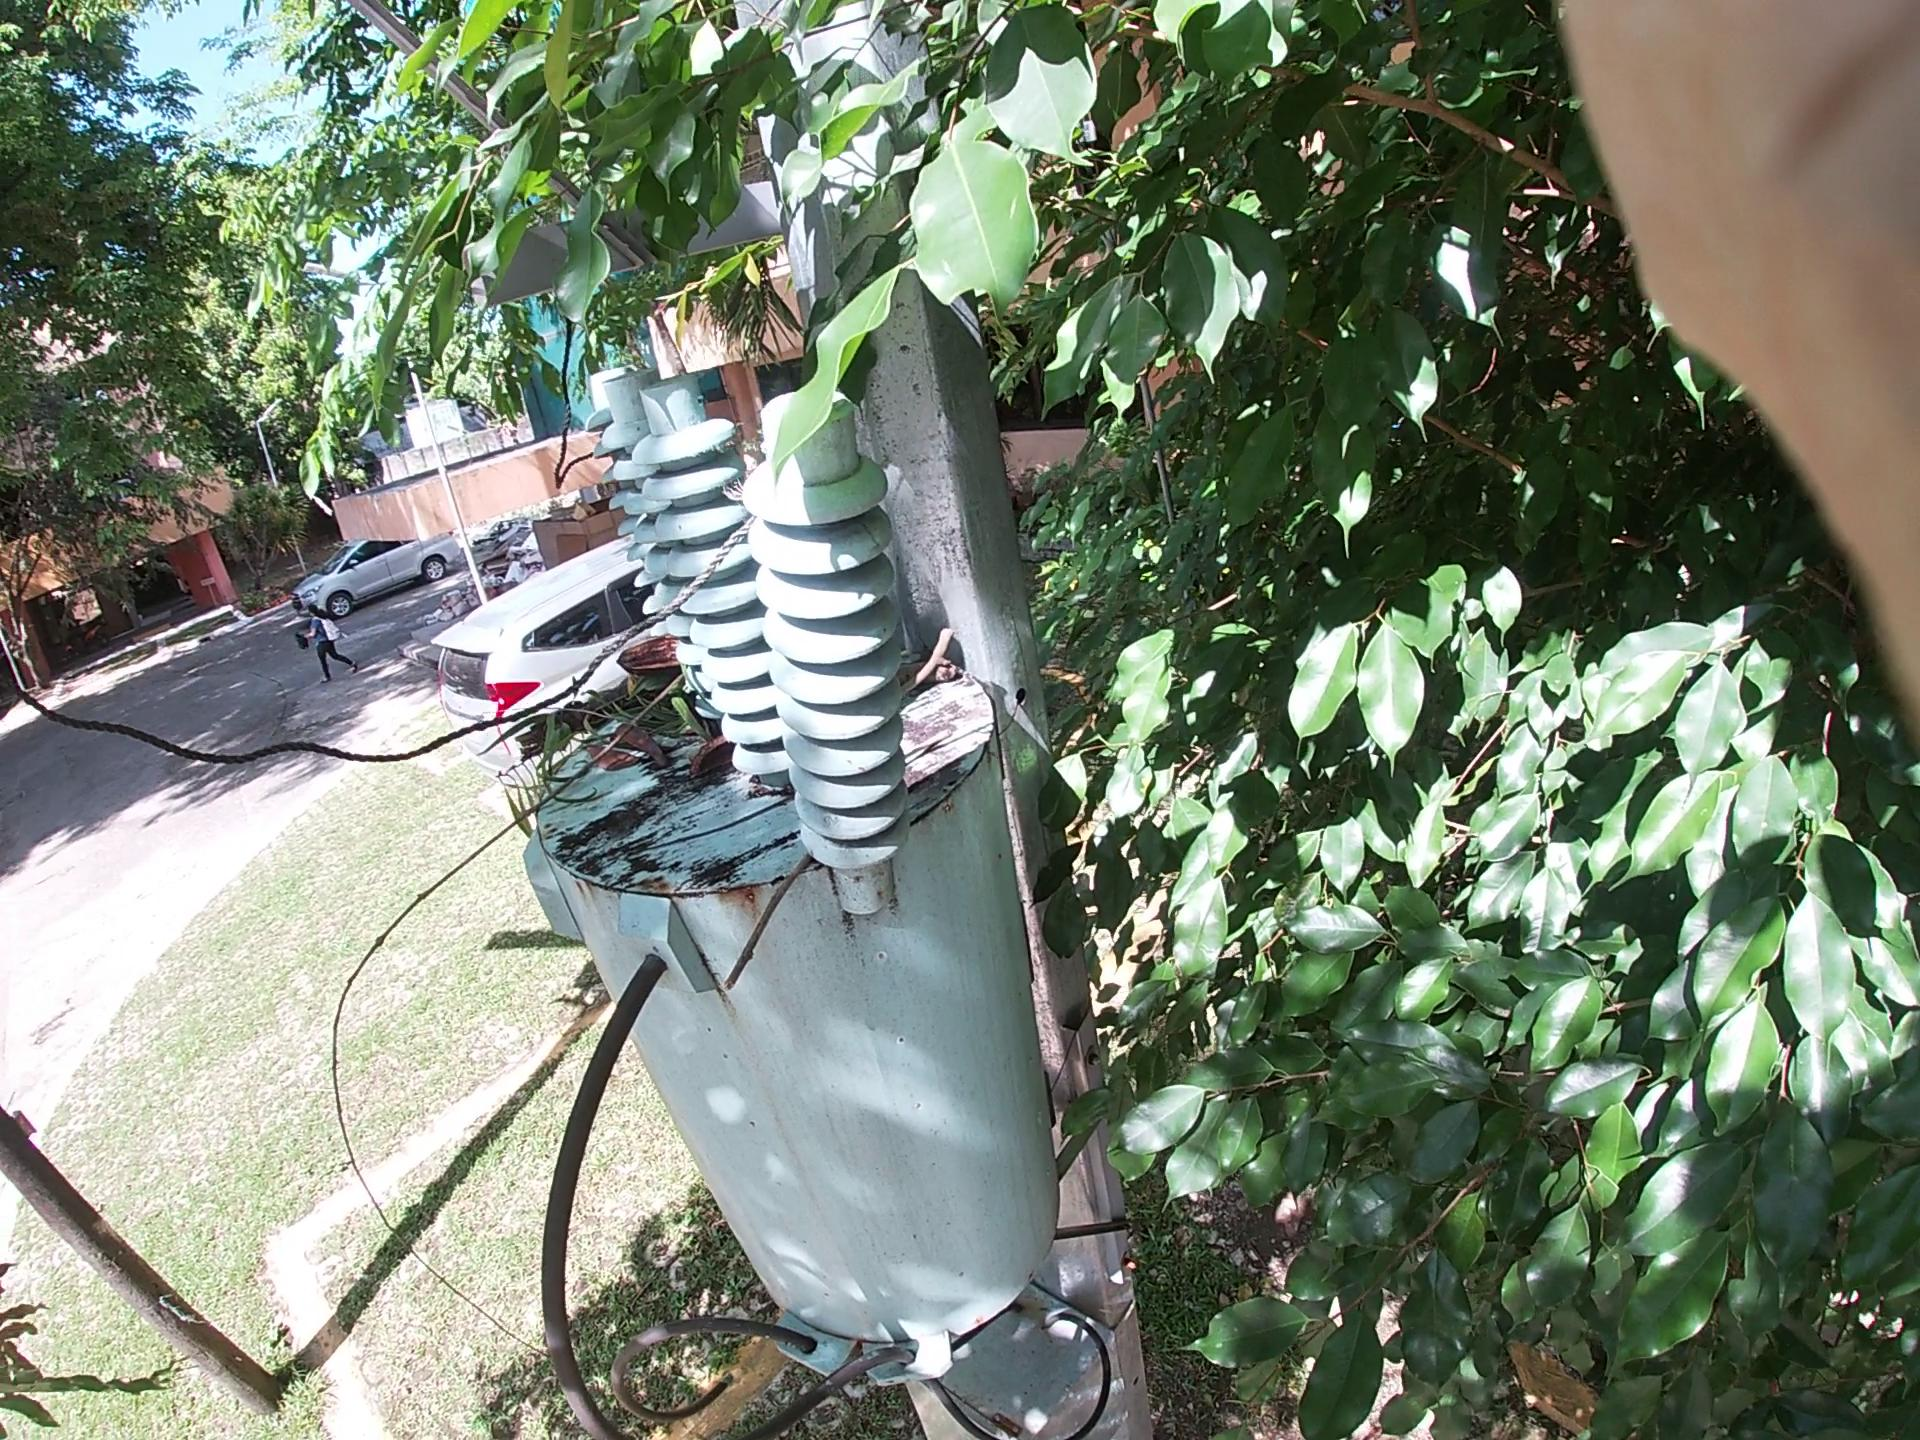branch with leaves: (540, 576, 735, 756)
leaf: (552, 720, 736, 784)
mahogany fruit: (574, 620, 679, 715), (683, 726, 768, 797)
tree branch: (231, 613, 754, 1311), (717, 793, 878, 970), (857, 626, 1072, 702)
